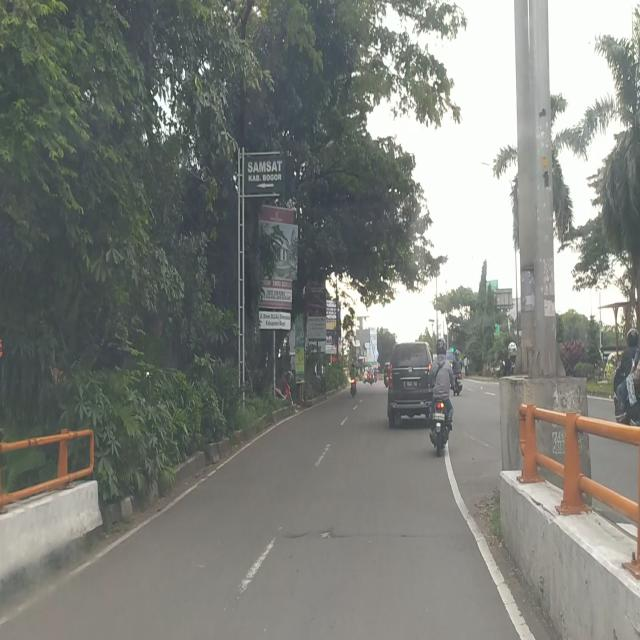Sewer Cover: (278, 530, 476, 541)
